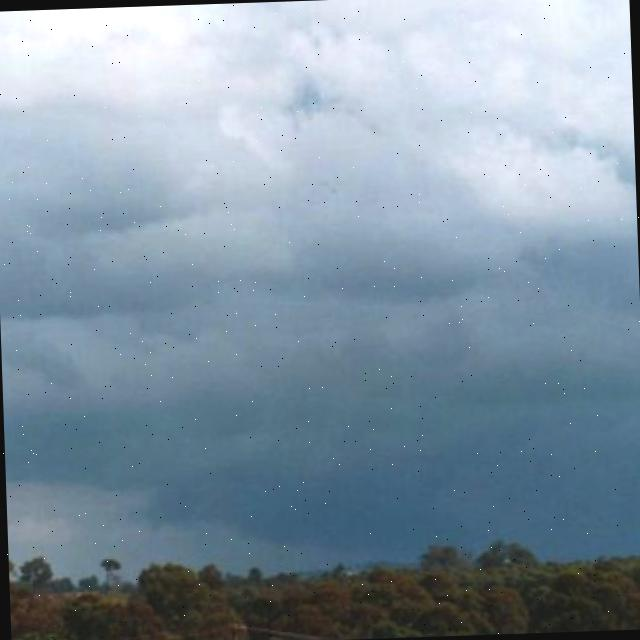St: (1, 27, 640, 466)
